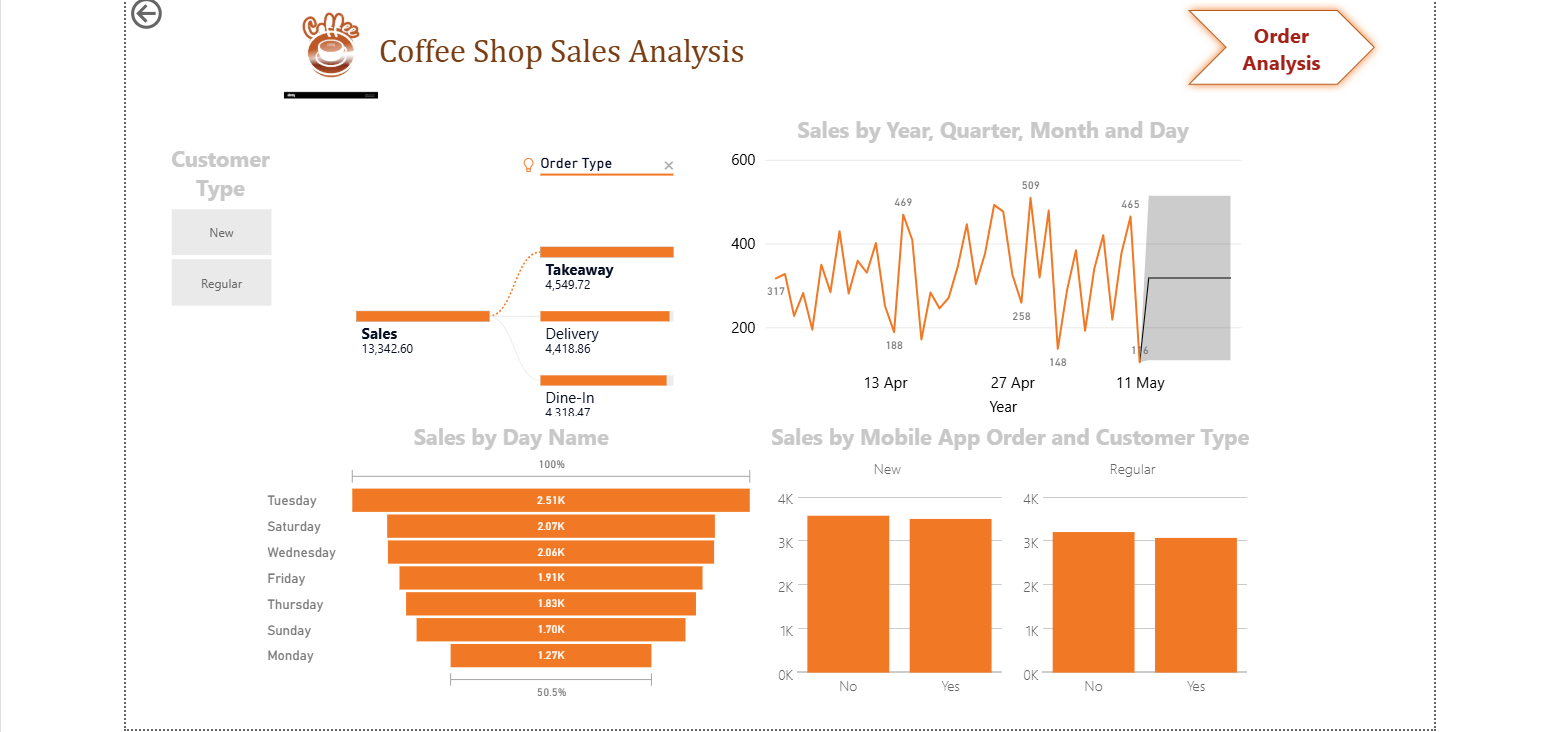

Layout of this report page (visuals, bound fields, positions):
{"tool":"powerbi","page":{"name":"Sales Analysis","canvas":[1280,720],"ordinal":3},"visuals":[{"type":"decompositionTreeVisual","fields":{"Analyze":["coffeeshop_transactions.Sales"],"ExplainBy":["coffeeshop_transactions.Order Type"]},"box":[196.2,141.3,391.1,277.2],"z":0},{"type":"lineChart","fields":{"Y":["coffeeshop_transactions.Sales"],"Category":["coffeeshop_transactions.Date.Variation.Date Hierarchy.Year","coffeeshop_transactions.Date.Variation.Date Hierarchy.Quarter","coffeeshop_transactions.Date.Variation.Date Hierarchy.Month","coffeeshop_transactions.Date.Variation.Date Hierarchy.Day"]},"box":[587.3,118,522.8,300.5],"z":1000},{"type":"funnel","fields":{"Y":["coffeeshop_transactions.Sales"],"Category":["coffeeshop_transactions.Day Name"]},"box":[133.1,419.9,487.1,277.2],"z":2000},{"type":"actionButton","box":[0,0,100,40],"z":3000},{"type":"PBI_CV_73744D90_4DC9_4F18_8BA5_EE8FA5C98035","fields":{"Category":["coffeeshop_transactions.Mobile App Order"],"Values":["coffeeshop_transactions.Sales"],"Columns":["coffeeshop_transactions.Customer Type"]},"box":[620,420,490,277],"z":4000},{"type":"shape","box":[1030.5,8.2,199,89.2],"z":5000},{"type":"image","box":[93.3,0,215.4,108.4],"z":6000},{"type":"textbox","box":[212.7,35.7,426.8,72.7],"z":7000},{"type":"slicer","title":"Customer Type","fields":{"Values":["coffeeshop_transactions.Customer Type"]},"box":[17.8,146.8,148.2,166],"z":8000}]}

Visuals, with their boxes on the page's 1280x720 design canvas (x1, y1, x2, y2). These are canvas units, not pixel positions in the 1555x732 screenshot, which may show the page scaled, cropped or inside an application window:
decompositionTreeVisual - coffeeshop_transactions.Sales x coffeeshop_transactions.Order Type: BBox(196, 141, 587, 418)
lineChart - coffeeshop_transactions.Sales x coffeeshop_transactions.Date.Variation.Date Hierarchy.Year: BBox(587, 118, 1110, 418)
funnel - coffeeshop_transactions.Sales x coffeeshop_transactions.Day Name: BBox(133, 420, 620, 697)
actionButton: BBox(0, 0, 100, 40)
PBI_CV_73744D90_4DC9_4F18_8BA5_EE8FA5C98035 - coffeeshop_transactions.Mobile App Order x coffeeshop_transactions.Sales: BBox(620, 420, 1110, 697)
shape: BBox(1030, 8, 1230, 97)
image: BBox(93, 0, 309, 108)
textbox: BBox(213, 36, 640, 108)
"Customer Type" slicer: BBox(18, 147, 166, 313)
